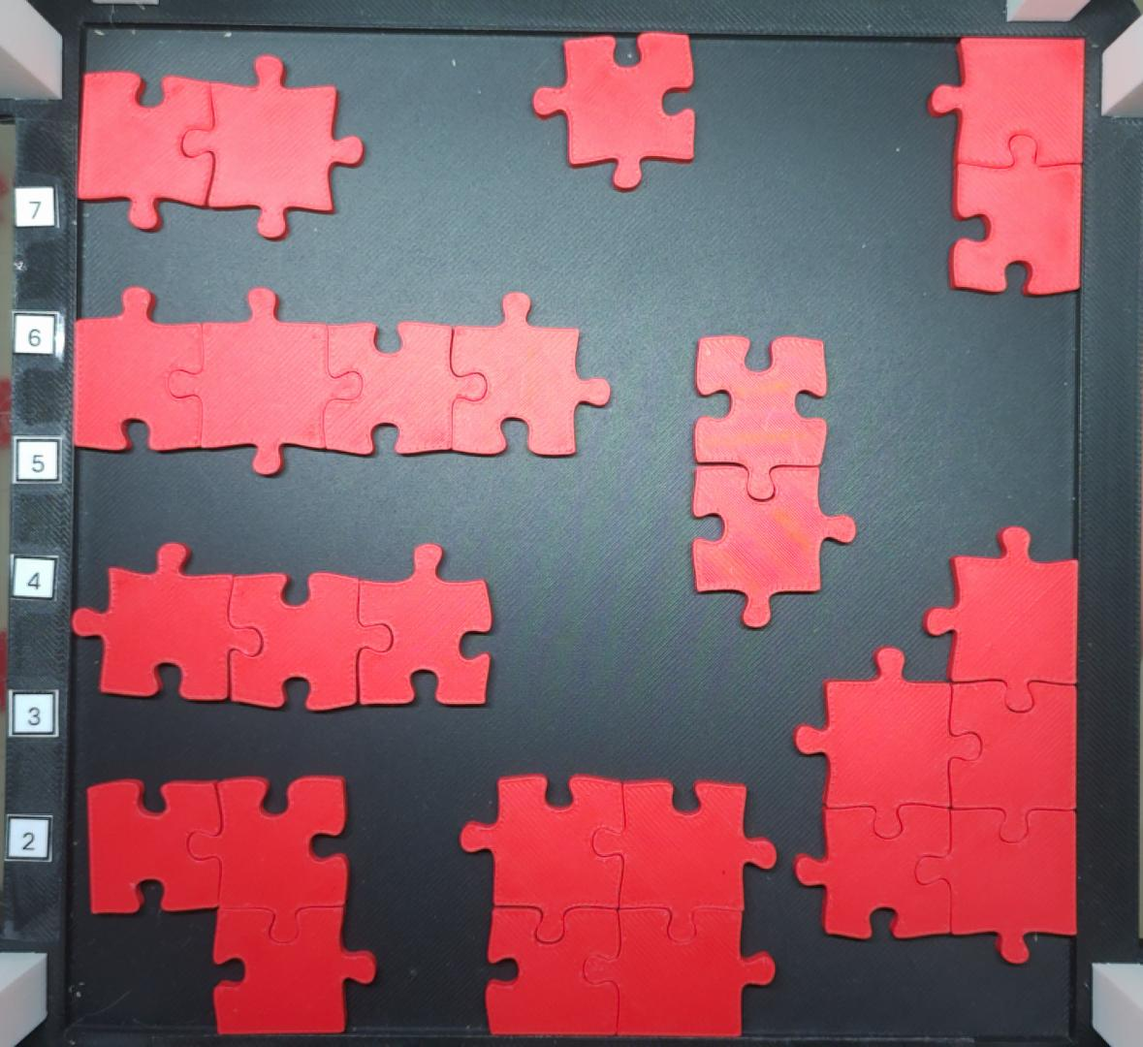p_1: (531, 34, 702, 193)
p_2: (76, 53, 367, 248), (691, 336, 855, 627), (928, 29, 1088, 301)
p_3: (83, 780, 377, 1033), (72, 543, 498, 712)
p_4: (70, 286, 609, 477), (455, 770, 774, 1041)
p_m: (789, 530, 1082, 962)
